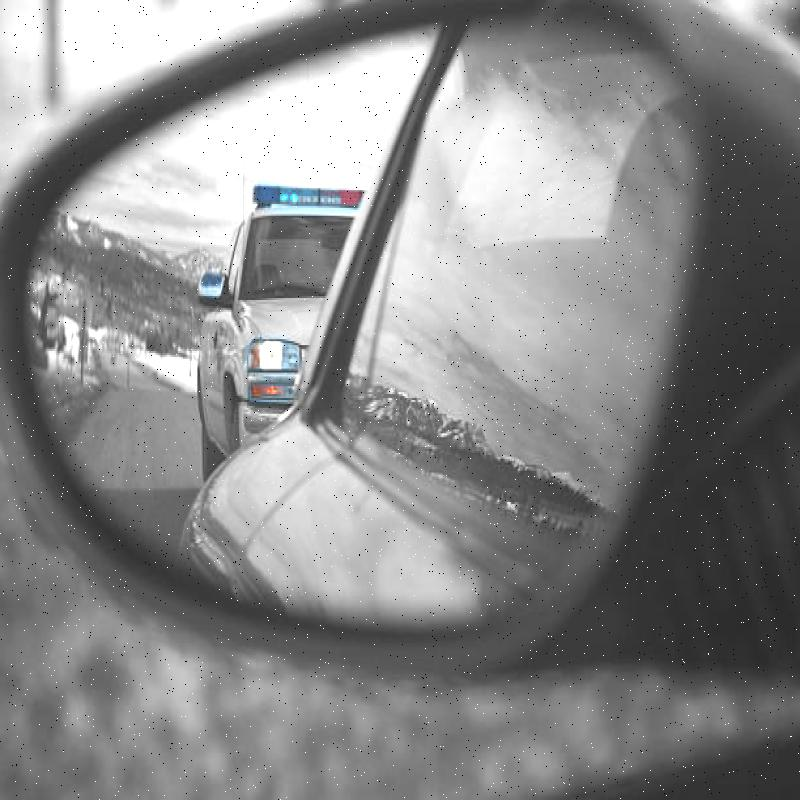AmbulanceSiren: (243, 174, 392, 224)
